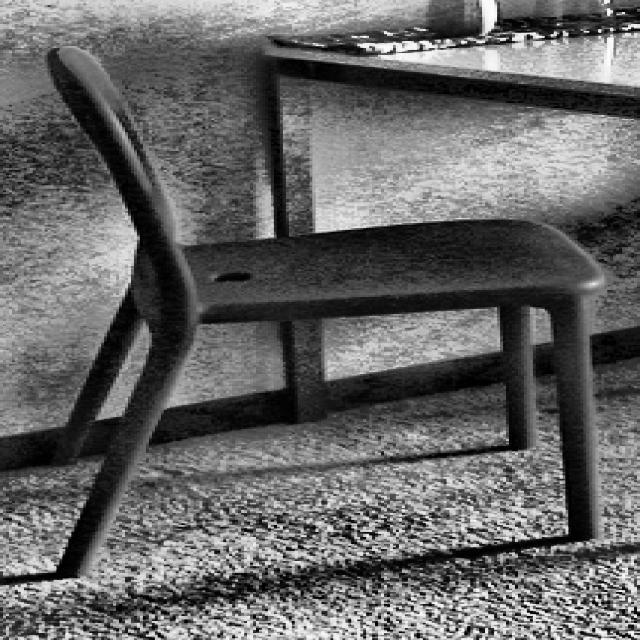chair: (37, 39, 609, 576)
